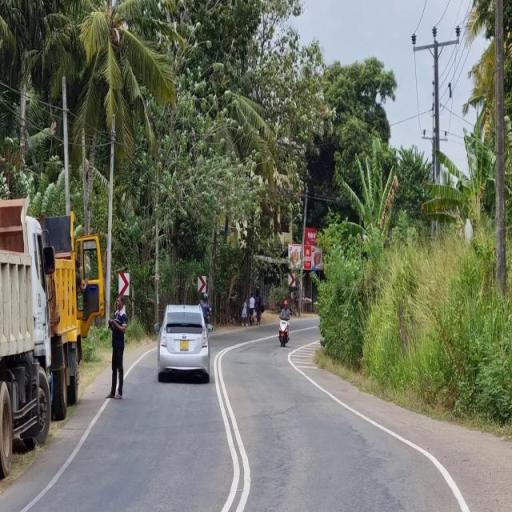double_white_line: (290, 341, 466, 510), (213, 341, 256, 511)
